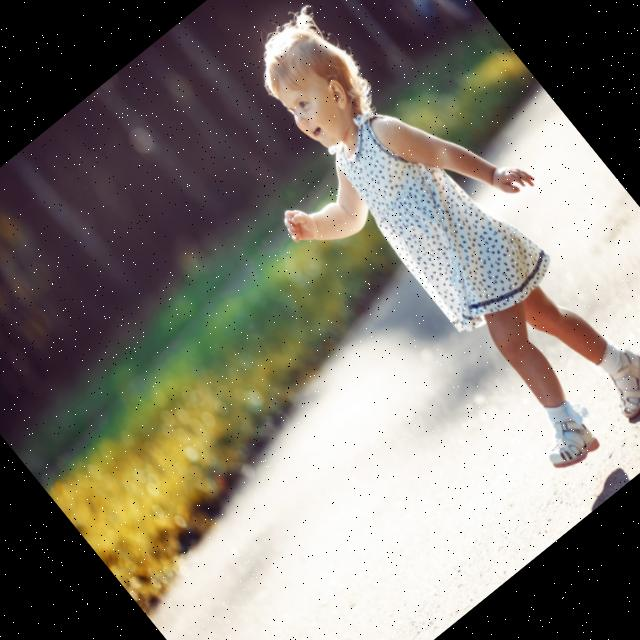Person: (185, 0, 640, 514)
